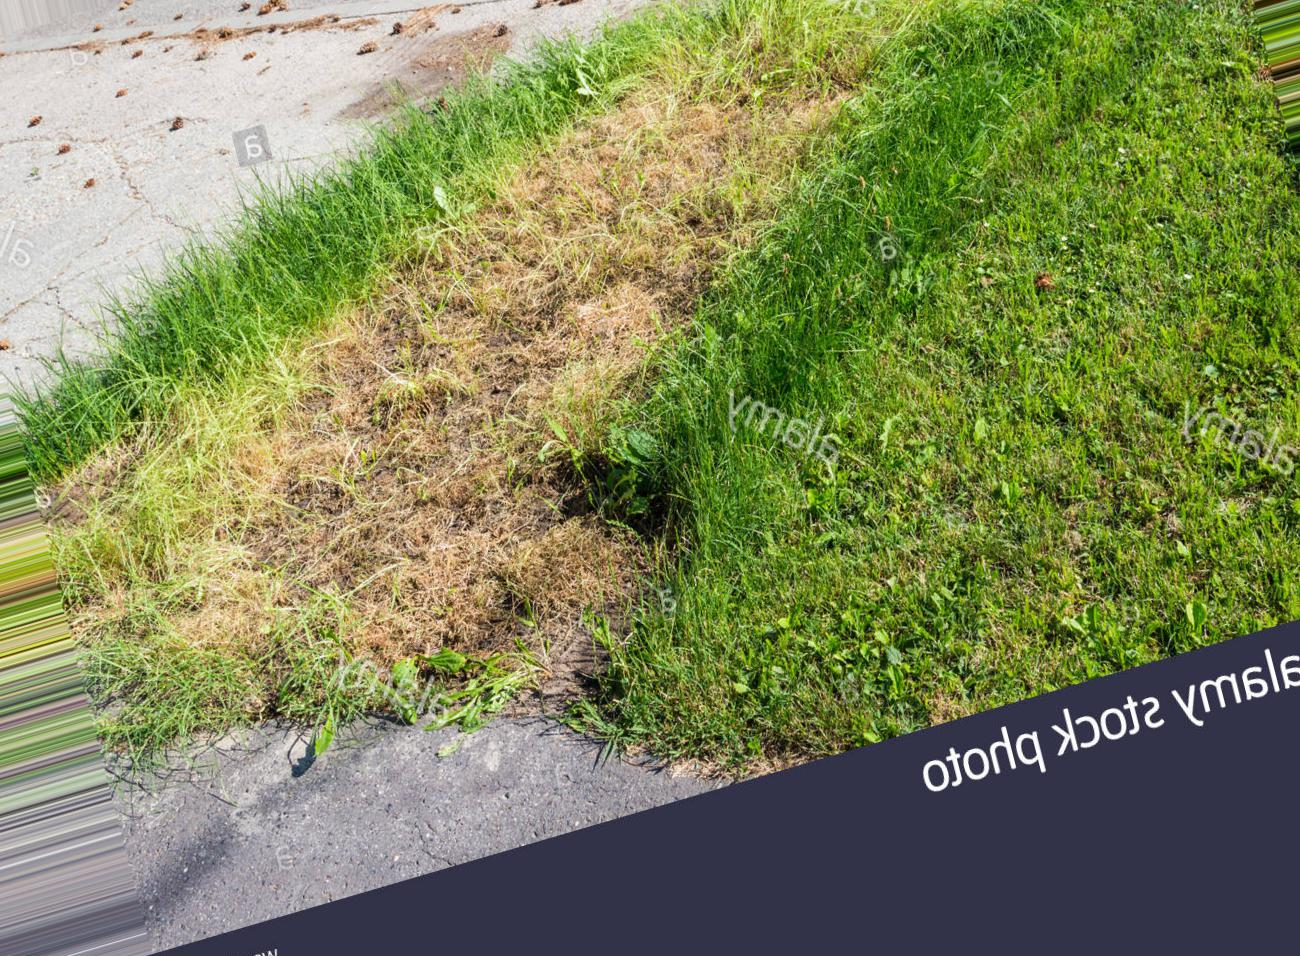patch: (248, 406, 524, 571), (444, 273, 667, 378), (110, 529, 239, 655), (616, 98, 757, 195), (500, 161, 612, 252), (308, 601, 468, 649), (539, 532, 636, 599), (309, 308, 396, 381), (400, 245, 426, 295)
